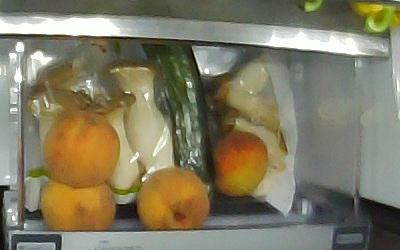peach: (42, 113, 121, 188), (137, 168, 208, 230), (40, 178, 116, 230), (210, 132, 269, 196)
